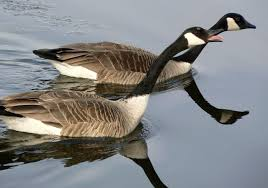goose: (1, 27, 225, 139), (29, 12, 257, 87)
